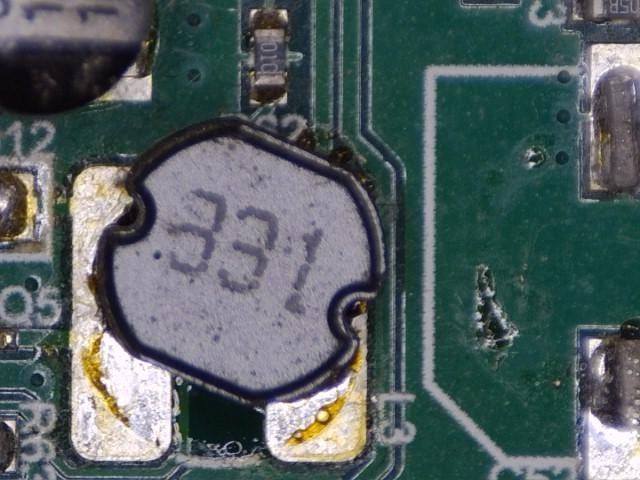pcb_defect: (68, 116, 387, 463)
